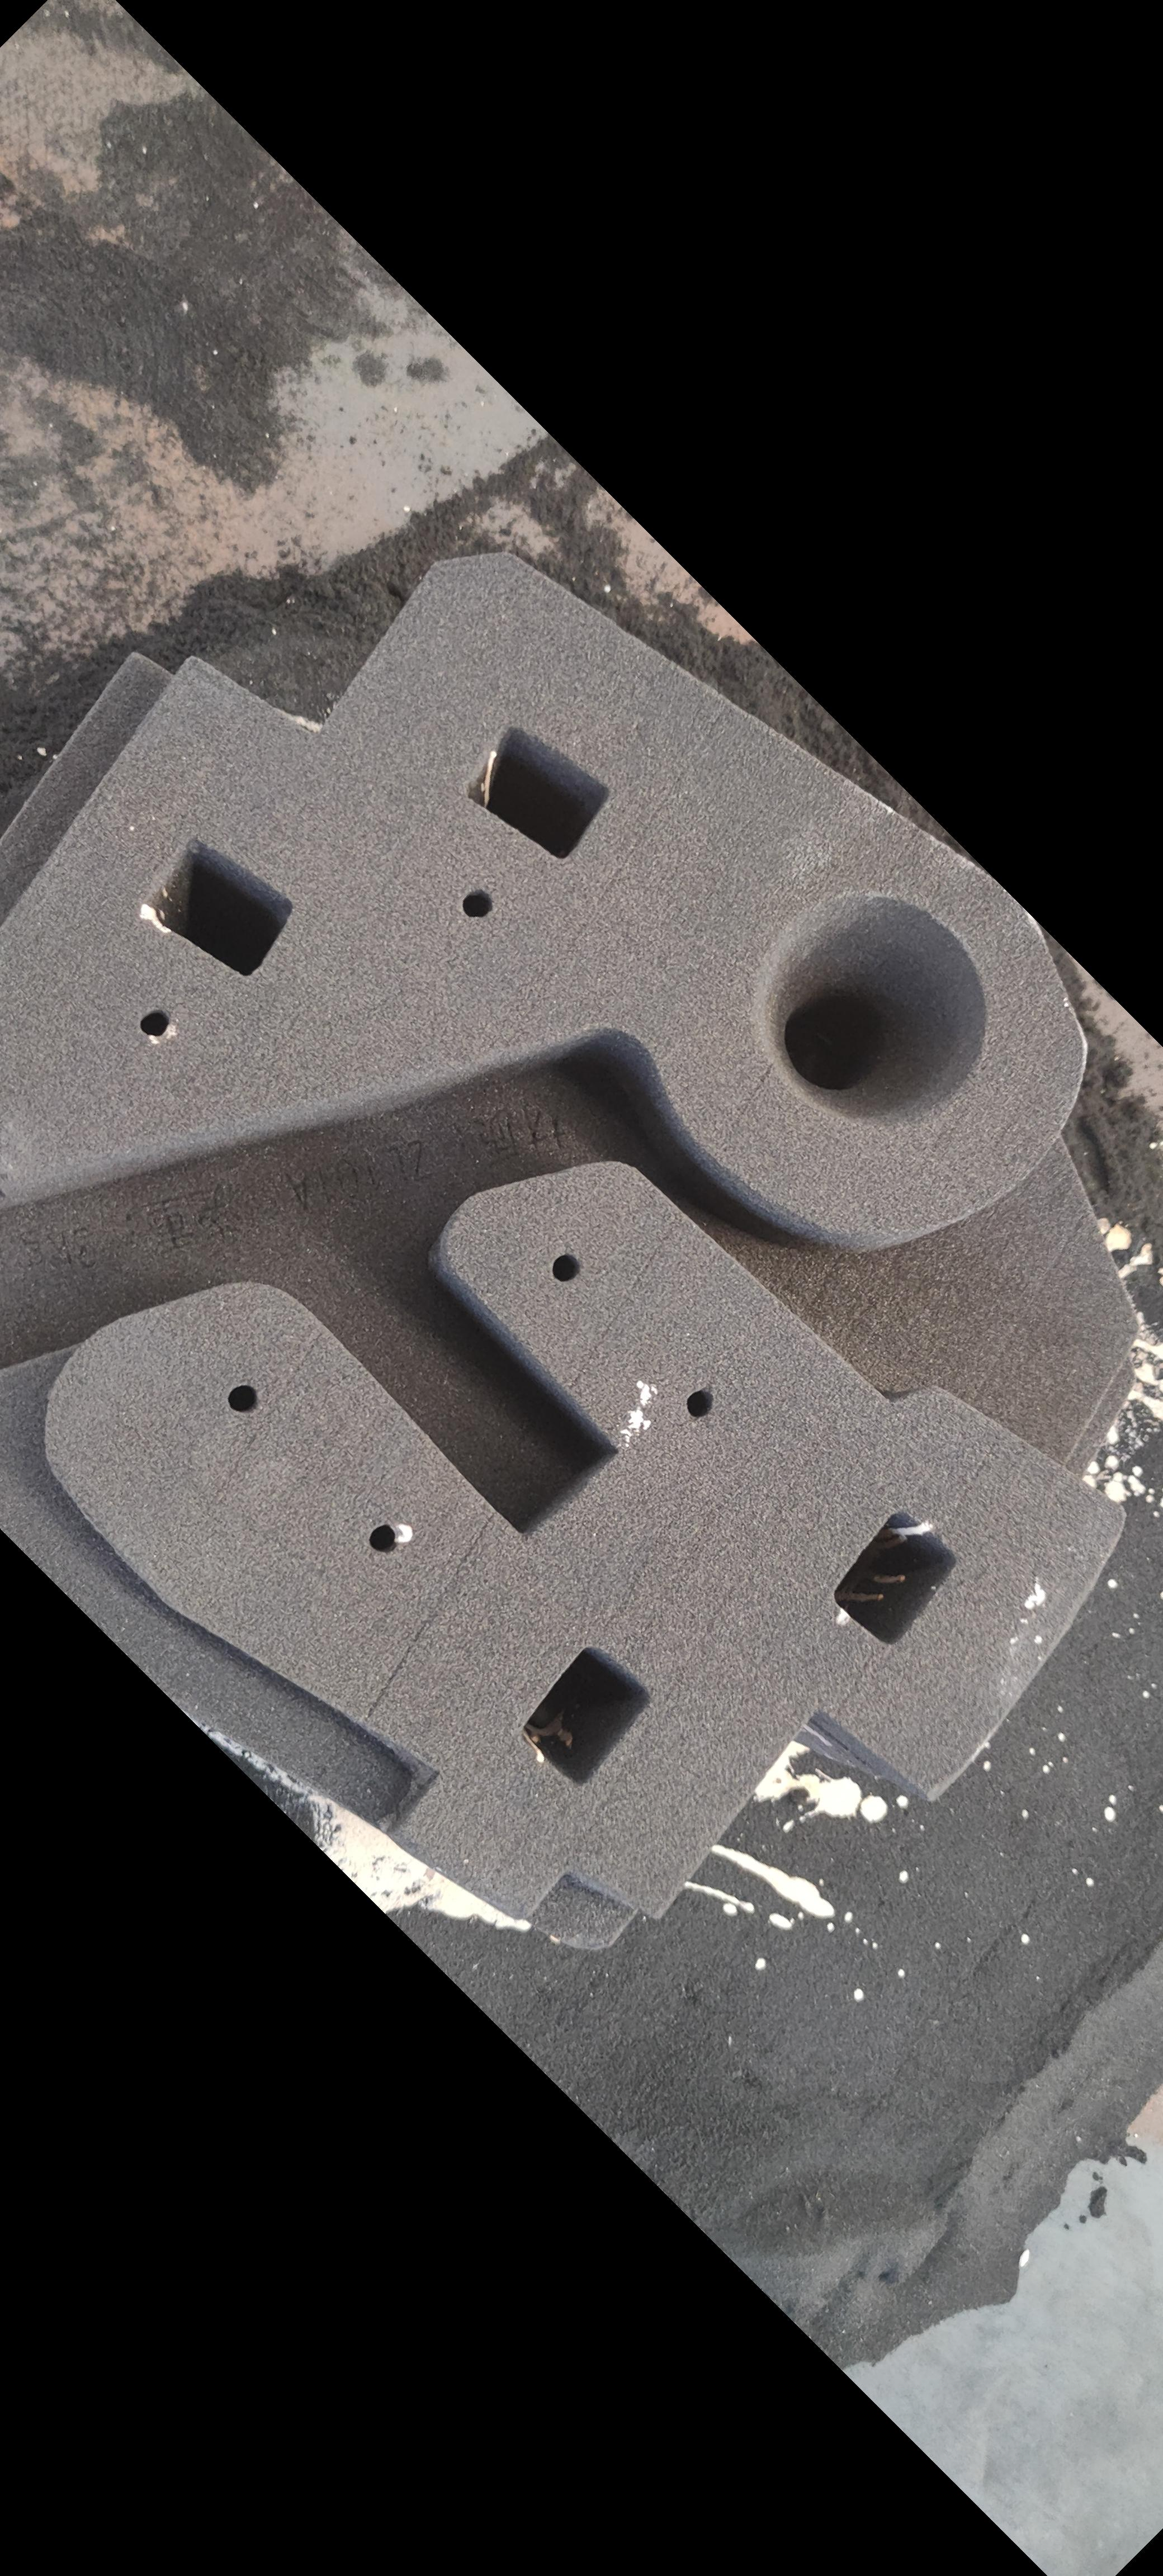pouring hole: (751, 890, 989, 1130)
